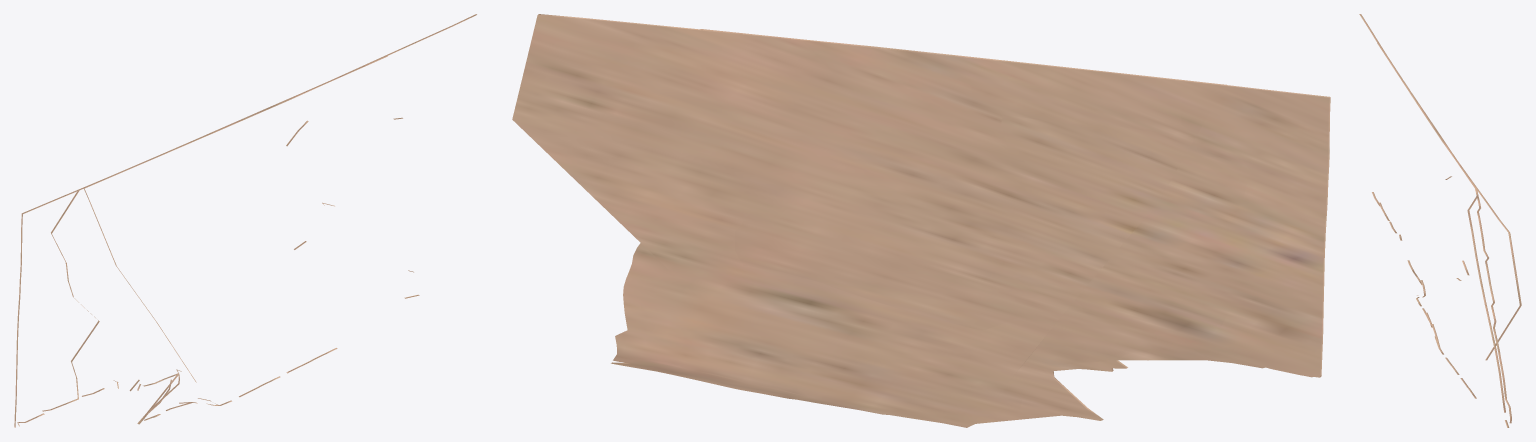
3 views of the same model, side by side, from view 1: azimuth 30°, elevation 25°; view 2: azimuth 150°, elevation 25°; view 3: azimuth 270°, elevation 25° (orthographic). The views are drawn at different scales.
Size of the model in its own units: 26.62 by 13.17 by 8.17.
1 material, 1 textured.
